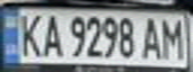2: (84, 12, 106, 59)
8: (118, 13, 139, 60)
9: (63, 11, 87, 58), (100, 12, 121, 59)
A: (39, 11, 66, 58), (139, 15, 166, 61)
K: (15, 10, 45, 58)
M: (157, 16, 190, 60)
